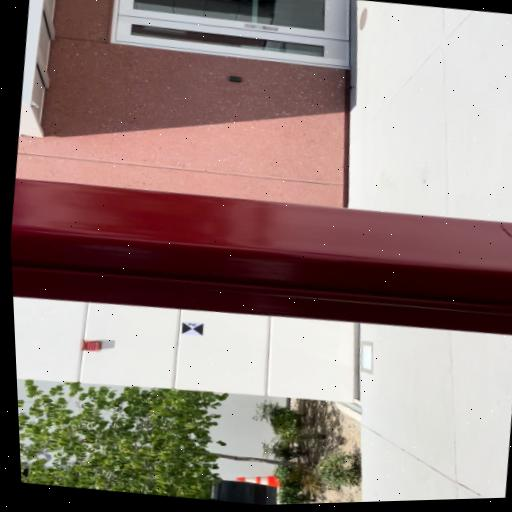target2: (181, 321, 206, 338)
